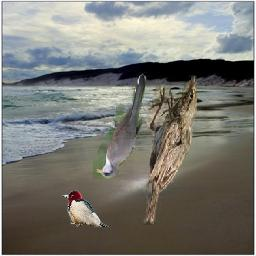Cuckoo: (93, 73, 147, 180)
Sparrow: (143, 75, 197, 225)
Woodpecker: (62, 191, 111, 228)
